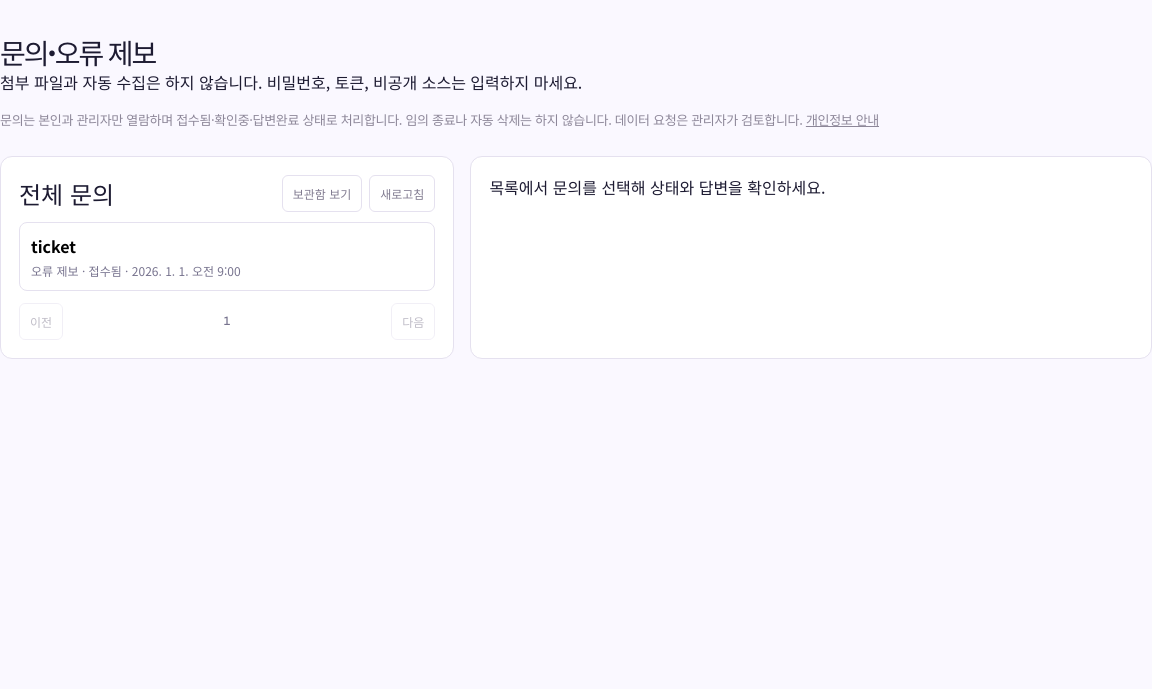
Test: SupportView › clears a previous administrator detail immediately when the account changes
What coordinates should you click on to do the following:
click the text "ticket"
I would click on:
 (53, 246)
Its box is left=31, top=234, right=76, bottom=258.
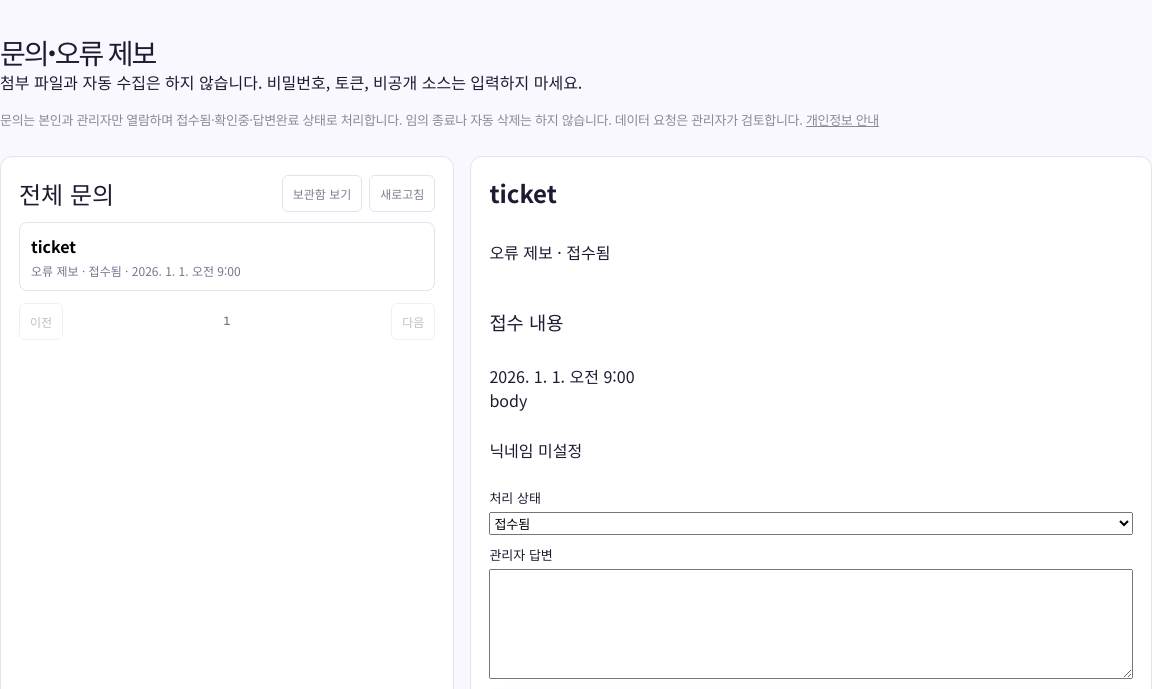
Result: the heading "접수 내용" is shown at left=489, top=308, right=564, bottom=335
